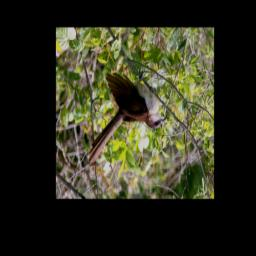Cuckoo: (105, 68, 168, 168)
